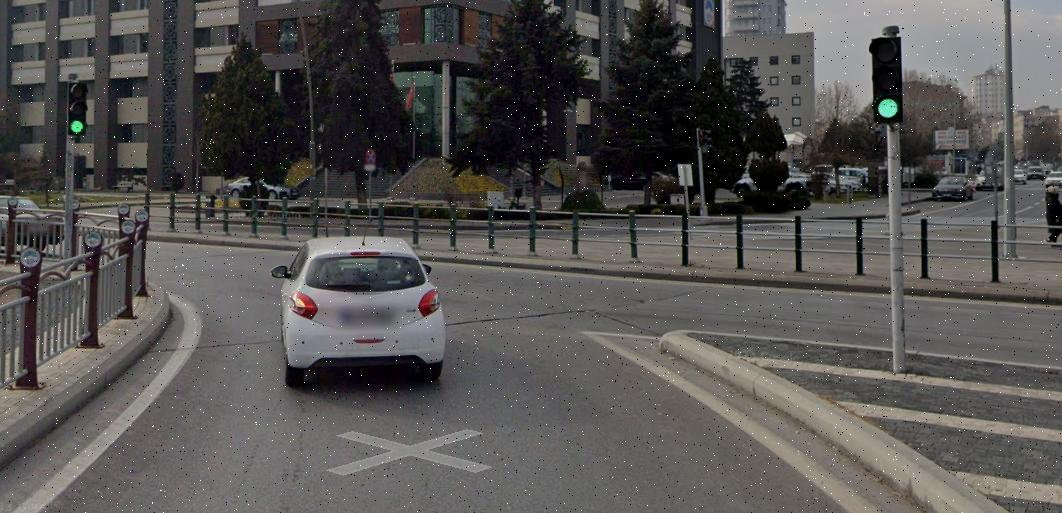greenlight: (868, 33, 904, 127), (68, 81, 89, 139)
